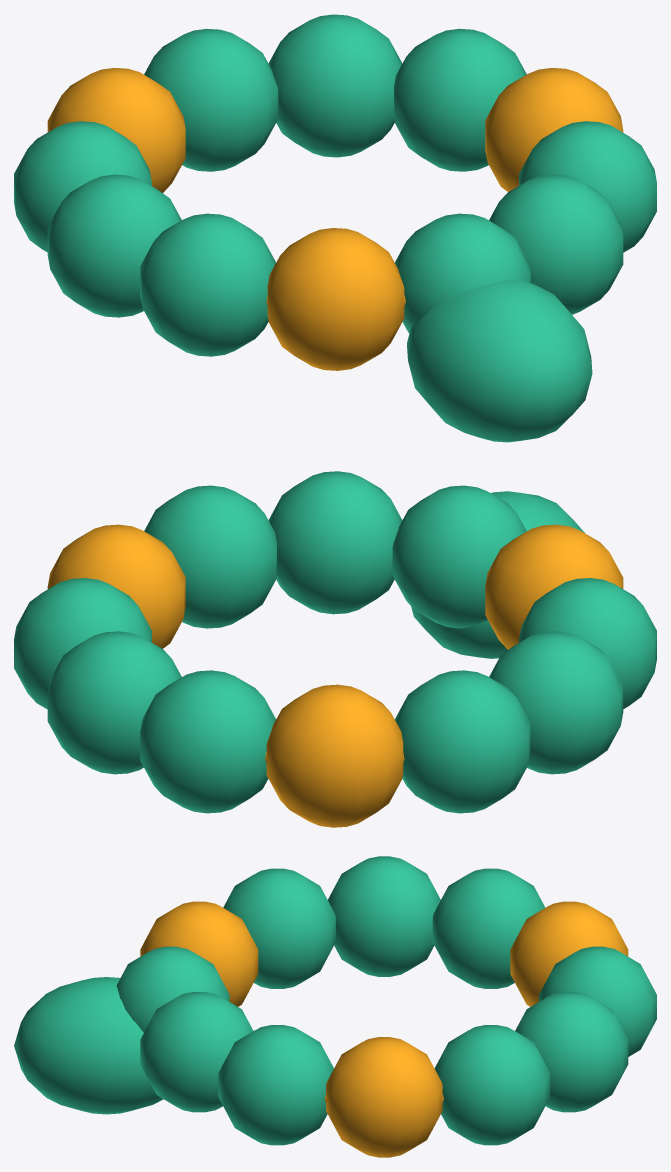
File: jadebeads.glb
3 views of the same model, one above another, from view 1: azimuth 30°, elevation 25°; view 2: azimuth 150°, elevation 25°; view 3: azimuth 270°, elevation 25° (orthographic). The views are drawn at different scales.
Visible parts, largest first — view 1: jadebeads; view 2: jadebeads; view 3: jadebeads.
Part boxes in pixels (box(x1,y1,x2,y2)): jadebeads: box(14, 14, 656, 442); jadebeads: box(14, 471, 656, 827); jadebeads: box(14, 856, 656, 1157).
Size of the model in its own units: 0.8435 by 0.2658 by 1.
1 material, 1 textured.
